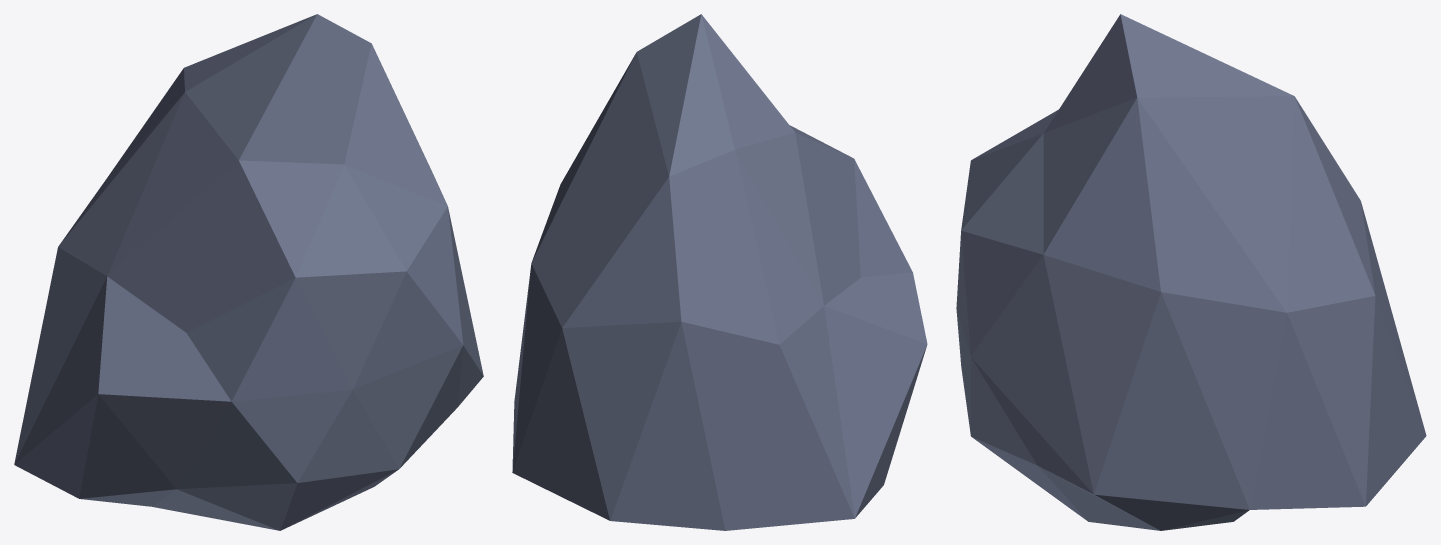
Rendered from Stone_9.fbx.
The picture shows the model from 3 angles, left to right: view 1: azimuth 30°, elevation 25°; view 2: azimuth 150°, elevation 25°; view 3: azimuth 270°, elevation 25°; orthographic projection. The views are drawn at different scales.
Parts seen in each view (by area): view 1: Stone_9; view 2: Stone_9; view 3: Stone_9.
Part boxes in pixels (<box>): Stone_9: <box>14,14,483,530</box>; Stone_9: <box>512,14,927,530</box>; Stone_9: <box>956,14,1426,530</box>.
Bounding box in the file's own units: 136 × 158 × 138.
